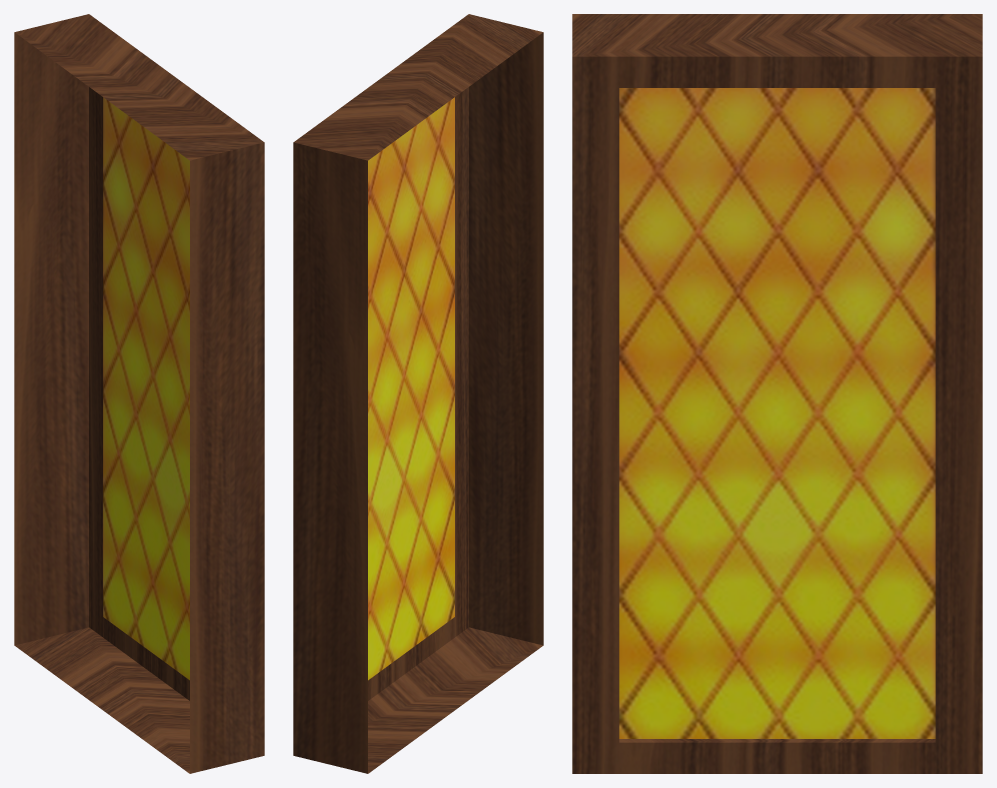
File: House_window.fbx
3 renders of one model, left to right at view 1: azimuth 30°, elevation 25°; view 2: azimuth 150°, elevation 25°; view 3: azimuth 270°, elevation 25°, orthographic. The views are drawn at different scales.
Visible parts, largest first — view 1: pCube3; view 2: pCube3; view 3: pCube3.
Boxes of the visible parts, bbox=[...] form: pCube3: bbox=[14, 14, 264, 773]; pCube3: bbox=[293, 14, 543, 773]; pCube3: bbox=[572, 14, 982, 773].
Size of the model in its own units: 0.5277 by 4.14 by 2.15.
